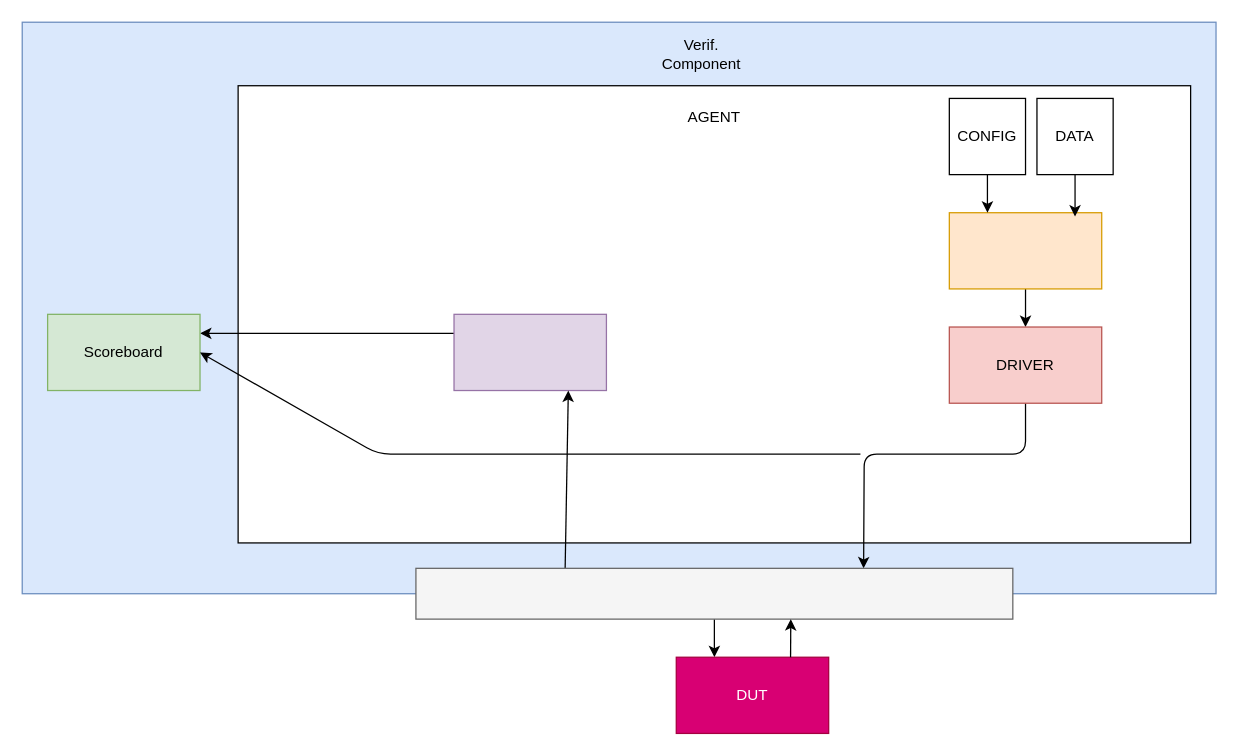
Some shapes in this 1238 by 756 pixel diagram are drawn without their labels. The centre of each missing label's shape, as x and y in pixels:
"INTERFACE" belongs at point (714, 593).
"MONITOR" belongs at point (529, 352).
"SEQUENCER" belongs at point (1025, 250).
